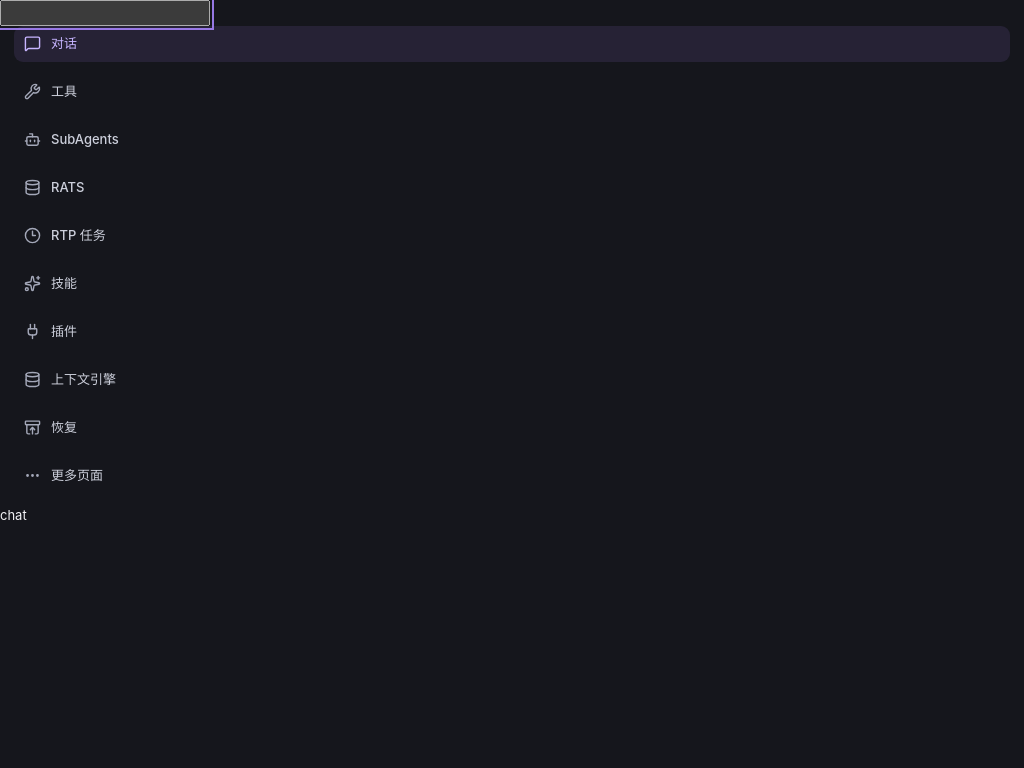
Test case: opens on mouse hover without taking focus until explicitly activated
This screenshot has width=1024, height=768.
Later steps or results of the test are not shown.
Hover over the button "更多页面" at (77, 475), box [14,458,1010,494]
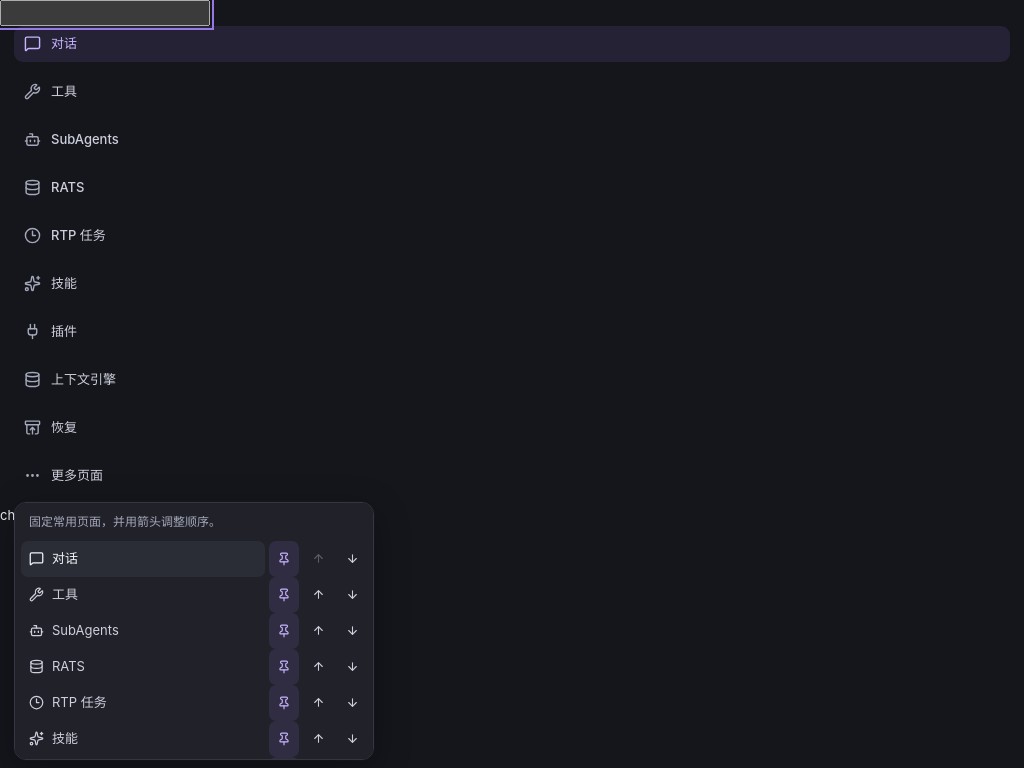
Now the dialog named "所有页面" is shown, box [14,502,374,760]
